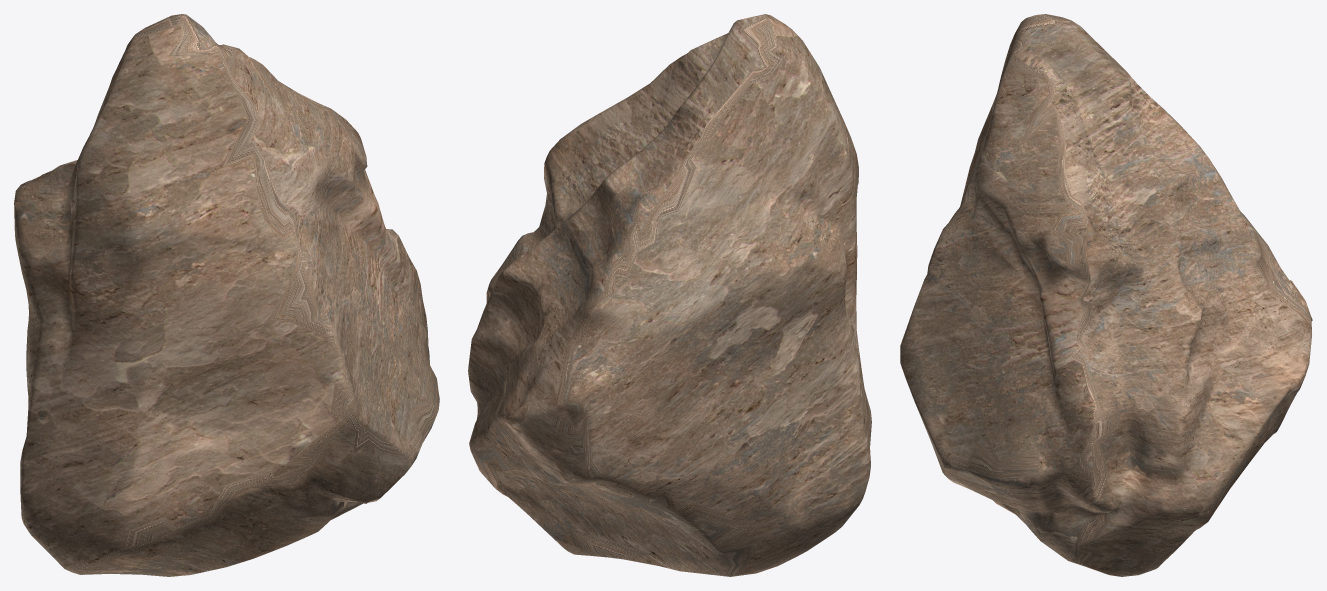
Rendered from model_boulder.obj.
3 renders of one model, left to right at view 1: azimuth 30°, elevation 25°; view 2: azimuth 150°, elevation 25°; view 3: azimuth 270°, elevation 25°, orthographic. The views are drawn at different scales.
Bounding box in the file's own units: 354 × 477 × 359.
Materials: 1 (1 with a texture image).
